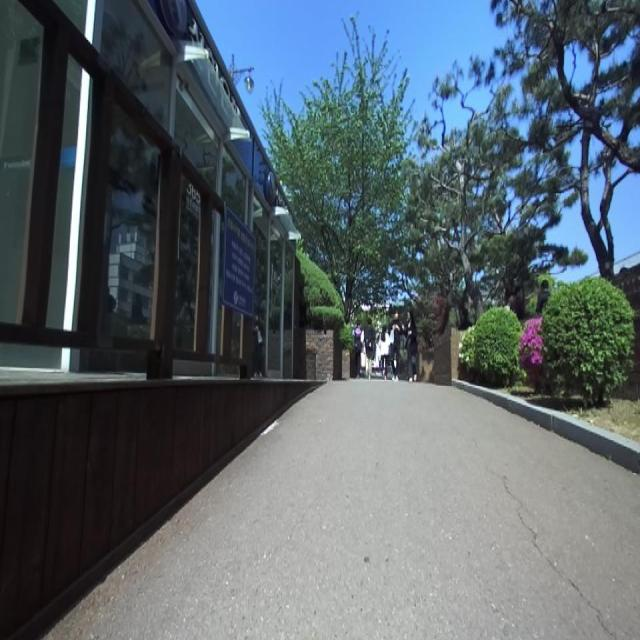sidewalk: (46, 379, 640, 639)
